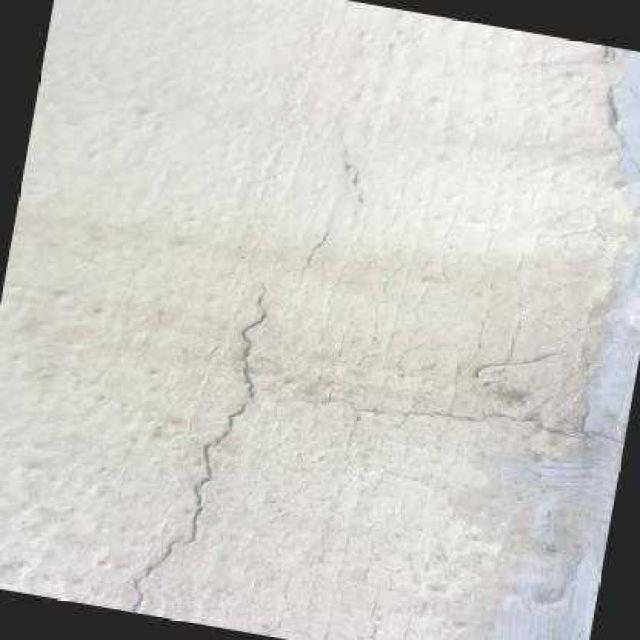D00: (126, 304, 272, 613), (408, 408, 578, 439)
